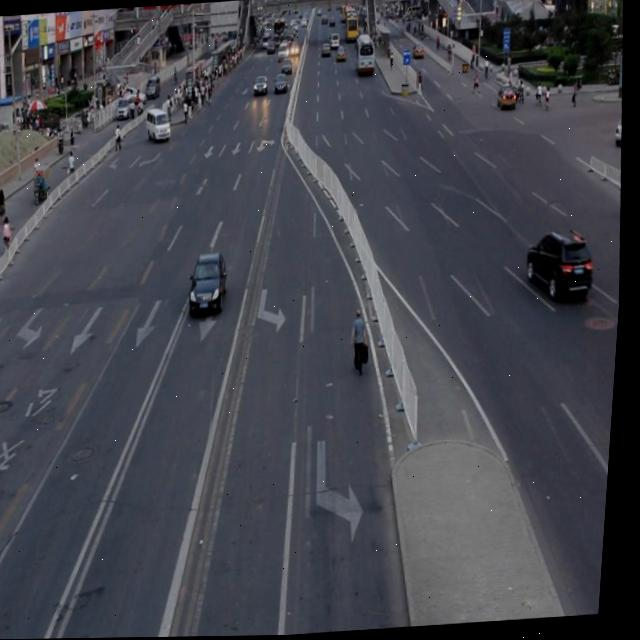car: (527, 227, 599, 305), (190, 251, 233, 319)
